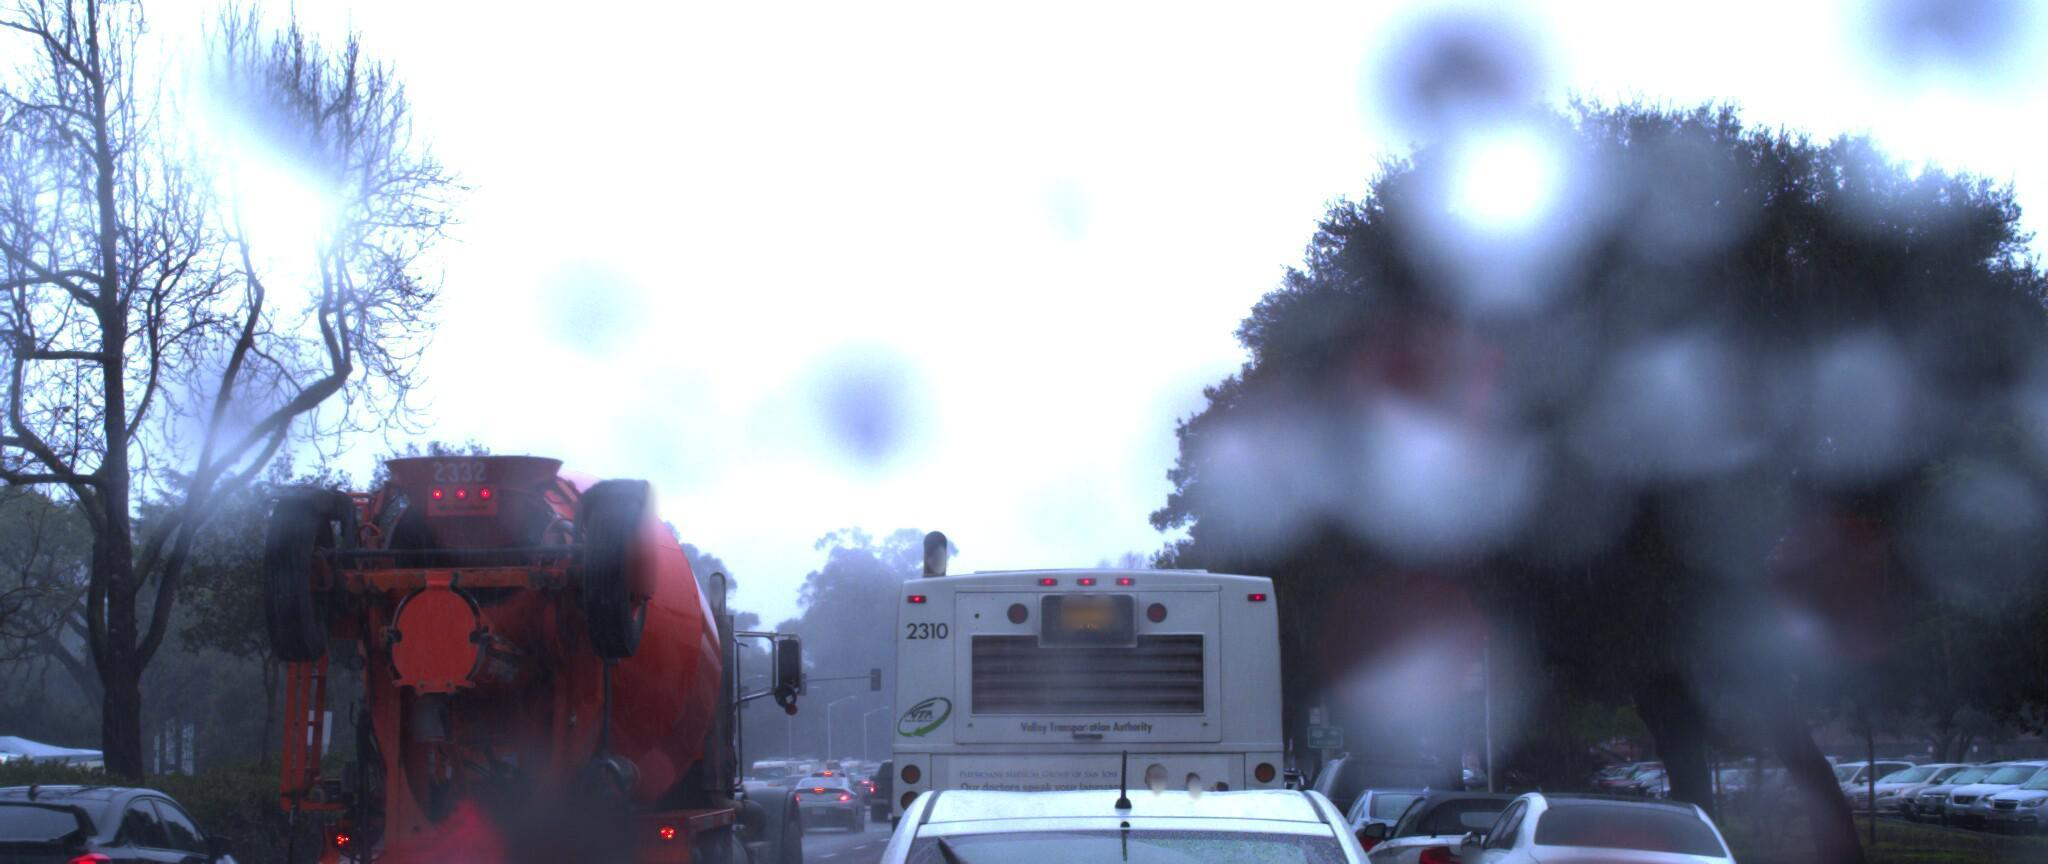bus: (872, 487, 1330, 864)
car: (735, 739, 1515, 864), (1398, 773, 1789, 864), (0, 756, 278, 864), (1334, 790, 1597, 864), (1298, 775, 1488, 864), (1864, 780, 2048, 864), (792, 783, 878, 844)
truck: (208, 422, 827, 864)
